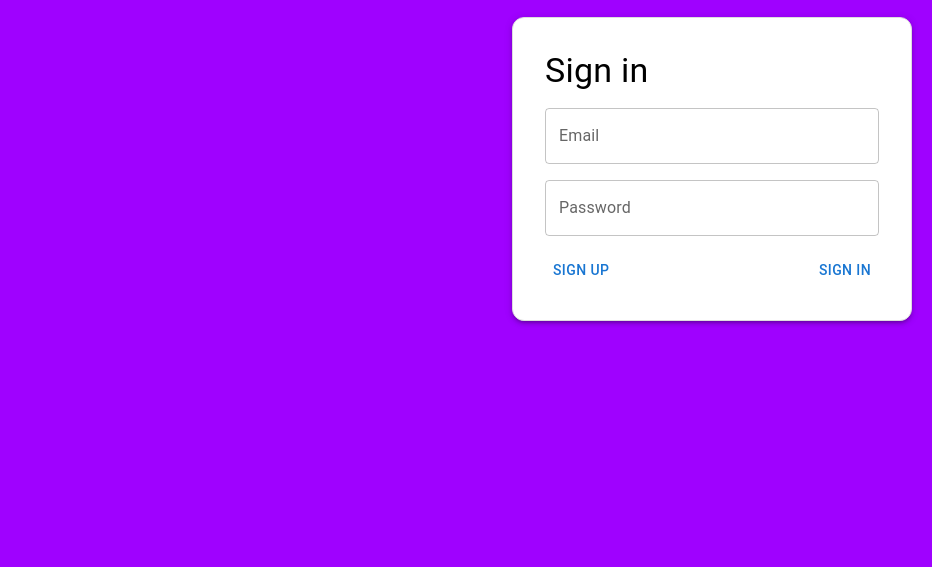
Test: LoginForm Component › shows error snackbar when login request fails
The image size is (932, 567).
Type "alice@example.com" into the field labelled "Email" at (712, 136), box [545,108,879,164]
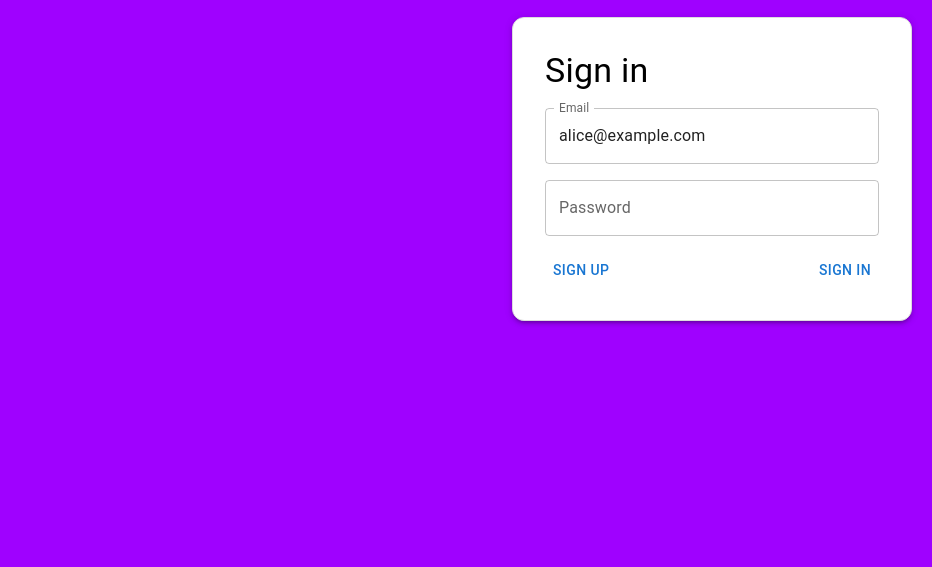
Type "wrongpassword" into the password field labelled "Password" at (712, 208), box [545,180,879,236]
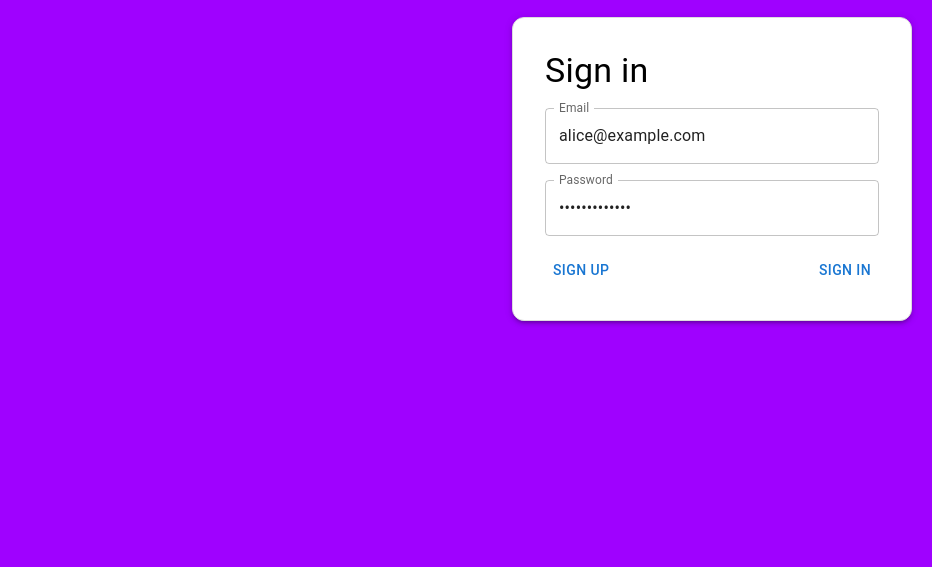
Click the button "Sign in" at (845, 270), box [811,252,879,288]
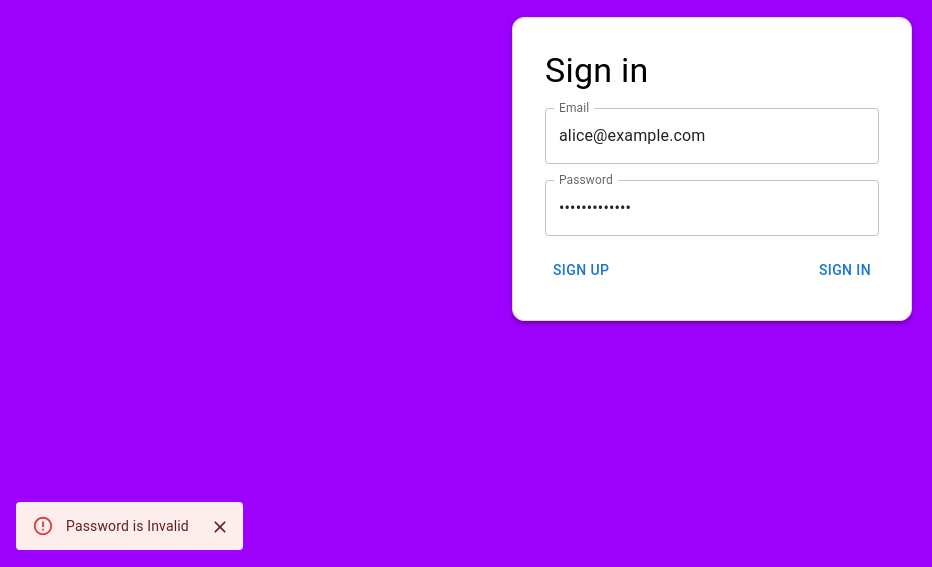
Check: the text "Password is Invalid" is shown, box [66,518,189,534]
